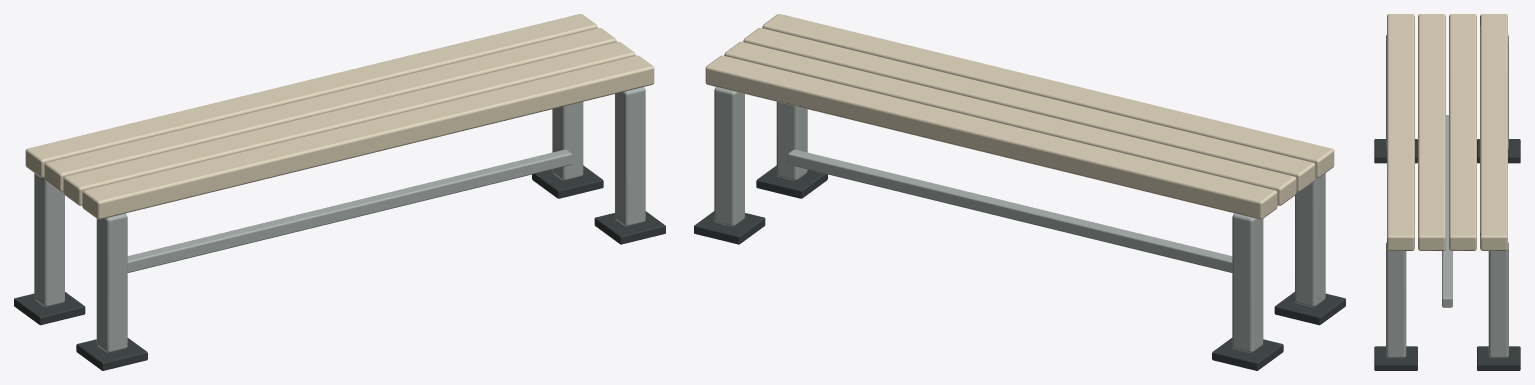
File: indoor-climbing-and-bouldering-gym-indoor-climbing-and-9fcb454d__31557.glb
3 views of the same model, side by side, from view 1: azimuth 30°, elevation 25°; view 2: azimuth 150°, elevation 25°; view 3: azimuth 270°, elevation 25° (orthographic). The views are drawn at different scales.
Visible parts, largest first — view 1: indoor-climbing-and-bouldering-gym-changing-bench; view 2: indoor-climbing-and-bouldering-gym-changing-bench; view 3: indoor-climbing-and-bouldering-gym-changing-bench.
Boxes of the visible parts, <box> form: indoor-climbing-and-bouldering-gym-changing-bench: <box>14,14,665,370</box>; indoor-climbing-and-bouldering-gym-changing-bench: <box>694,14,1345,370</box>; indoor-climbing-and-bouldering-gym-changing-bench: <box>1374,14,1520,370</box>.
Size of the model in its own units: 1.72 by 0.475 by 0.47.
